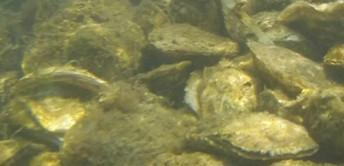3: (210, 113, 319, 160), (131, 0, 176, 38), (0, 138, 32, 166), (322, 43, 344, 68), (33, 151, 65, 166), (231, 53, 255, 72)
Oyster-Closed: (259, 85, 344, 156), (184, 61, 259, 124), (246, 41, 335, 92), (278, 0, 344, 51), (147, 23, 240, 57), (13, 65, 109, 95), (19, 86, 80, 130), (131, 61, 192, 104), (224, 3, 275, 44), (253, 11, 308, 41)
Oyster-Open: (64, 96, 234, 166), (63, 22, 144, 82), (22, 7, 95, 72), (162, 0, 220, 35)
